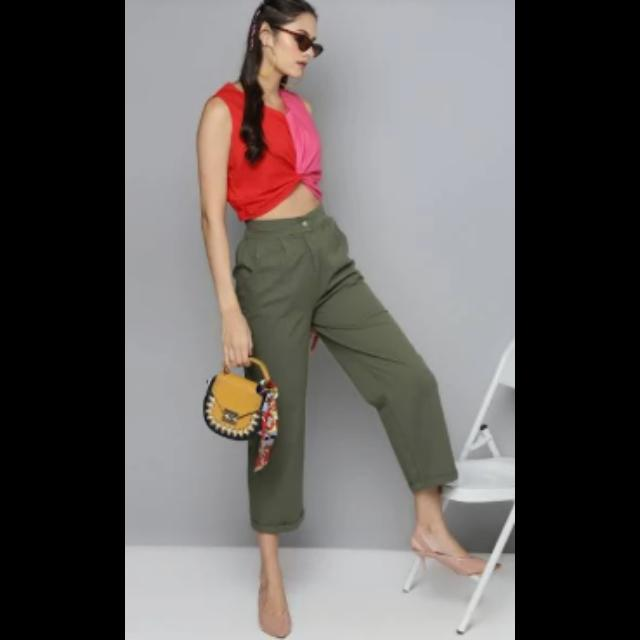bottom: (234, 220, 442, 506)
top: (222, 85, 318, 213)
